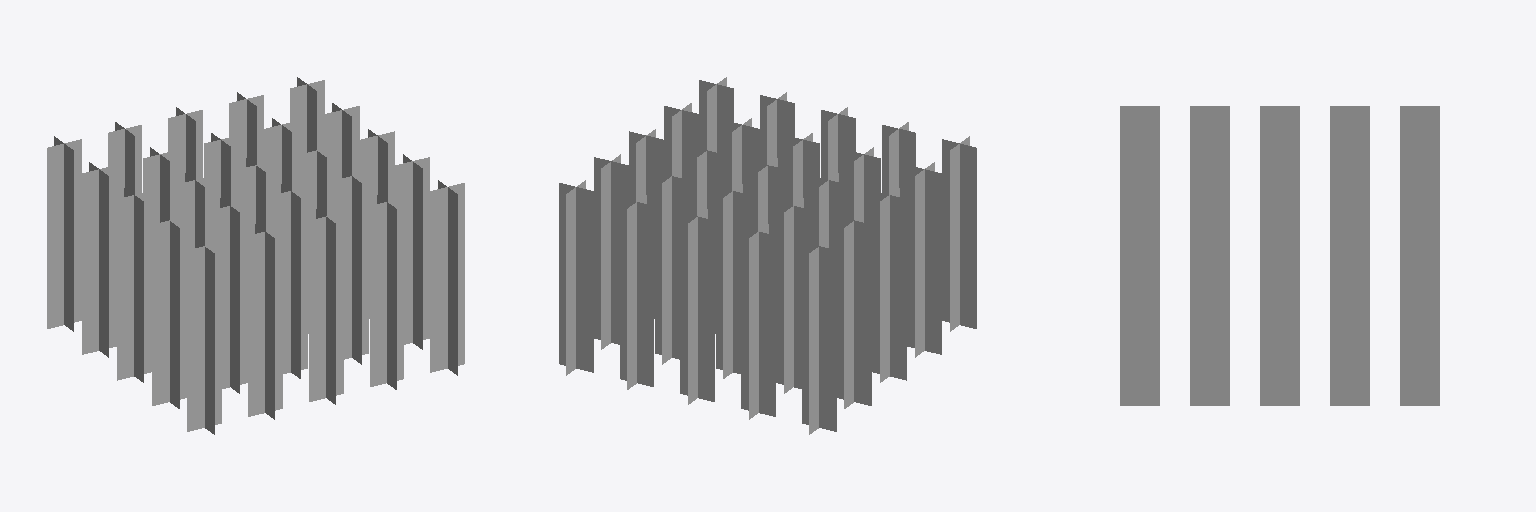
Rendered from spike-trap-spikes.obj.
The picture shows the model from 3 angles: view 1: azimuth 30°, elevation 25°; view 2: azimuth 150°, elevation 25°; view 3: azimuth 270°, elevation 25°; orthographic projection.
Visible parts, largest first — view 1: spiketrap-spikes; view 2: spiketrap-spikes; view 3: spiketrap-spikes.
Boxes of the visible parts, box(x1,y1,x2,y2) form: spiketrap-spikes: box(47, 77, 464, 434); spiketrap-spikes: box(559, 77, 976, 434); spiketrap-spikes: box(1120, 106, 1439, 405).
Bounding box in the file's own units: 1.6 × 1 × 1.6.